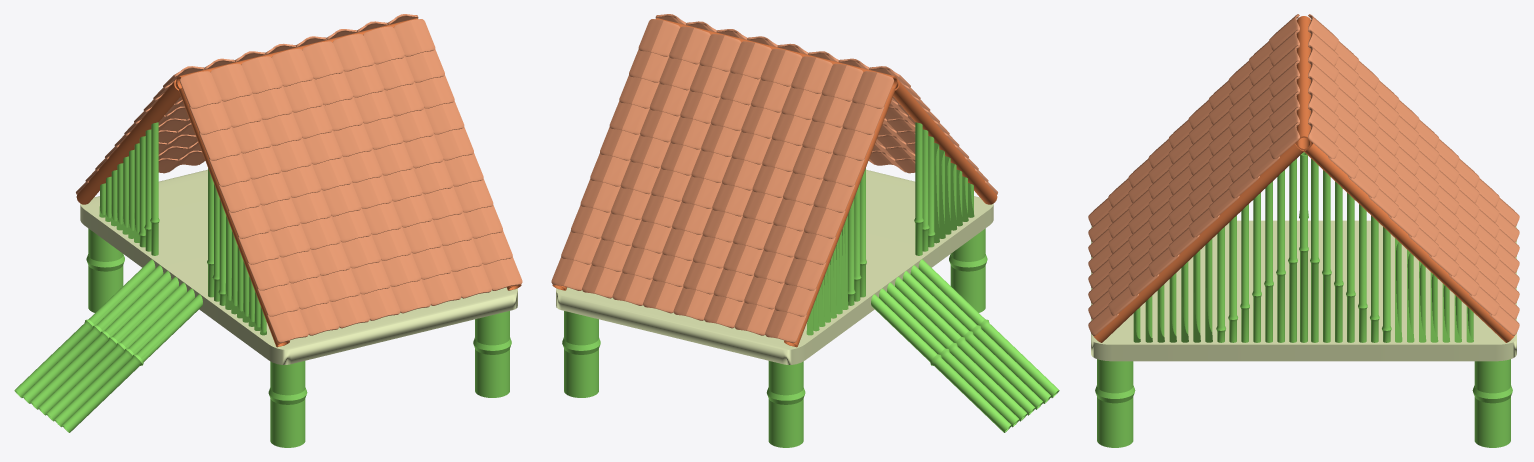
Rendered from Hut.fbx.
The picture shows the model from 3 angles, left to right: view 1: azimuth 30°, elevation 25°; view 2: azimuth 150°, elevation 25°; view 3: azimuth 270°, elevation 25°; orthographic projection. The views are drawn at different scales.
Parts seen in each view (by area): view 1: Cube.001, Cube.002, Cylinder.007, Cylinder.005, Cylinder.006, Cube, Cylinder.003, Cylinder.001; view 2: Cube, Cube.002, Cylinder.007, Cylinder.005, Cylinder.006, Cube.001, Cylinder.003, Cylinder.001; view 3: Cube, Cube.001, Cylinder.005, Cube.002, Cylinder.006, Cylinder.003, Cylinder.001, Cylinder.004.
Boxes of the visible parts, <box> form: Cube.001: <box>179,19,522,342</box>; Cube.002: <box>80,169,517,364</box>; Cylinder.007: <box>14,259,202,432</box>; Cylinder.005: <box>99,122,266,335</box>; Cylinder.006: <box>86,228,511,447</box>; Cube: <box>76,14,418,194</box>; Cylinder.003: <box>76,79,521,347</box>; Cylinder.001: <box>176,18,418,89</box>; Cube: <box>551,19,893,342</box>; Cube.002: <box>556,169,993,364</box>; Cylinder.007: <box>871,259,1059,432</box>; Cylinder.005: <box>806,122,974,335</box>; Cylinder.006: <box>562,228,987,447</box>; Cube.001: <box>655,14,997,194</box>; Cylinder.003: <box>552,79,997,347</box>; Cylinder.001: <box>655,18,897,89</box>; Cube: <box>1308,14,1519,335</box>; Cube.001: <box>1088,14,1299,335</box>; Cylinder.005: <box>1133,159,1473,342</box>; Cube.002: <box>1091,220,1516,361</box>; Cylinder.006: <box>1095,359,1512,447</box>; Cylinder.003: <box>1093,142,1514,342</box>; Cylinder.001: <box>1296,16,1311,150</box>; Cylinder.004: <box>1299,152,1308,342</box>.
Bounding box in the file's own units: 2506 × 1939 × 2363.
